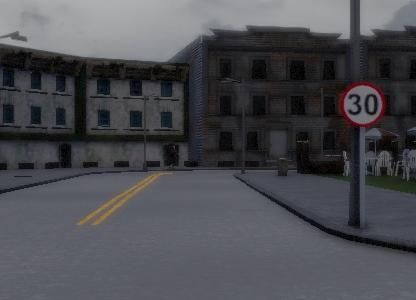Speed_30: (335, 79, 388, 129)
